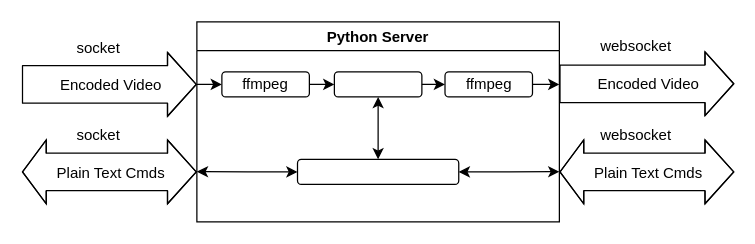
Some shapes in this 755 by 244 pixel diagram are drawn without their labels. Each missing label, with the centre of its shape:
"Command Engine" belongs at point (377, 171).
"OpenCV" belongs at point (377, 84).
